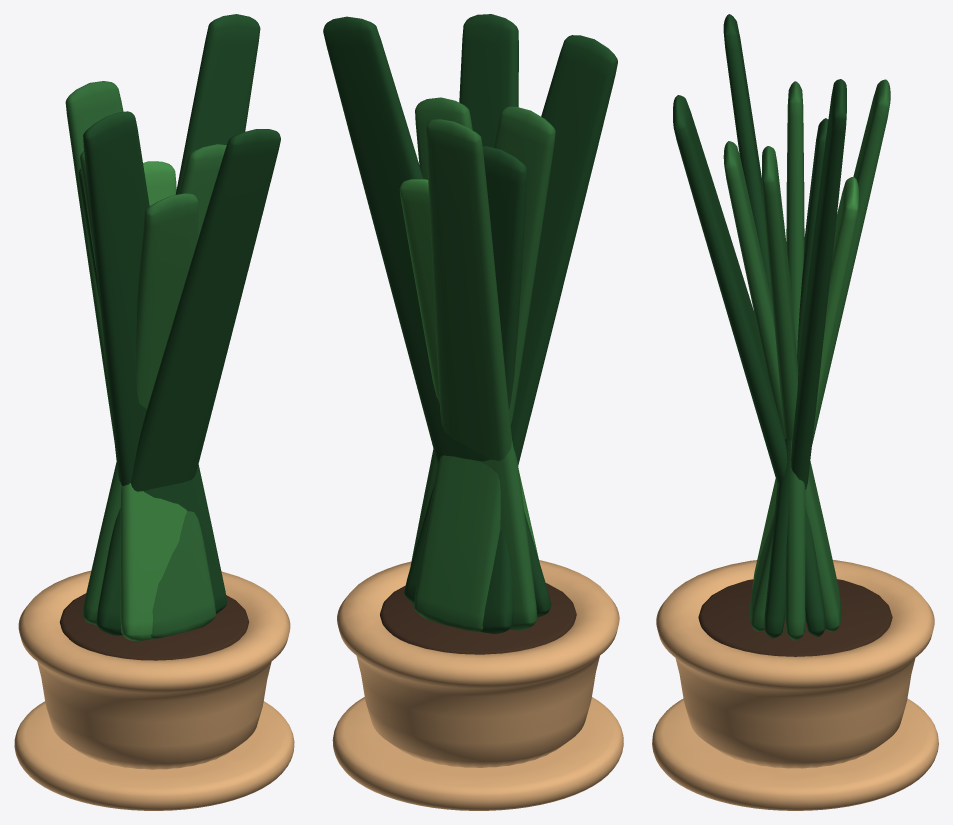
The model's file is plant_c.glb.
3 views of the same model, side by side, from view 1: azimuth 30°, elevation 25°; view 2: azimuth 150°, elevation 25°; view 3: azimuth 270°, elevation 25° (orthographic). The views are drawn at different scales.
Visible parts, largest first — view 1: body; view 2: body; view 3: body.
Boxes of the visible parts, bbox=[...] form: body: bbox=[14, 14, 294, 810]; body: bbox=[323, 14, 623, 810]; body: bbox=[652, 14, 938, 810].
Size of the model in its own units: 0.2554 by 0.6916 by 0.2499.
